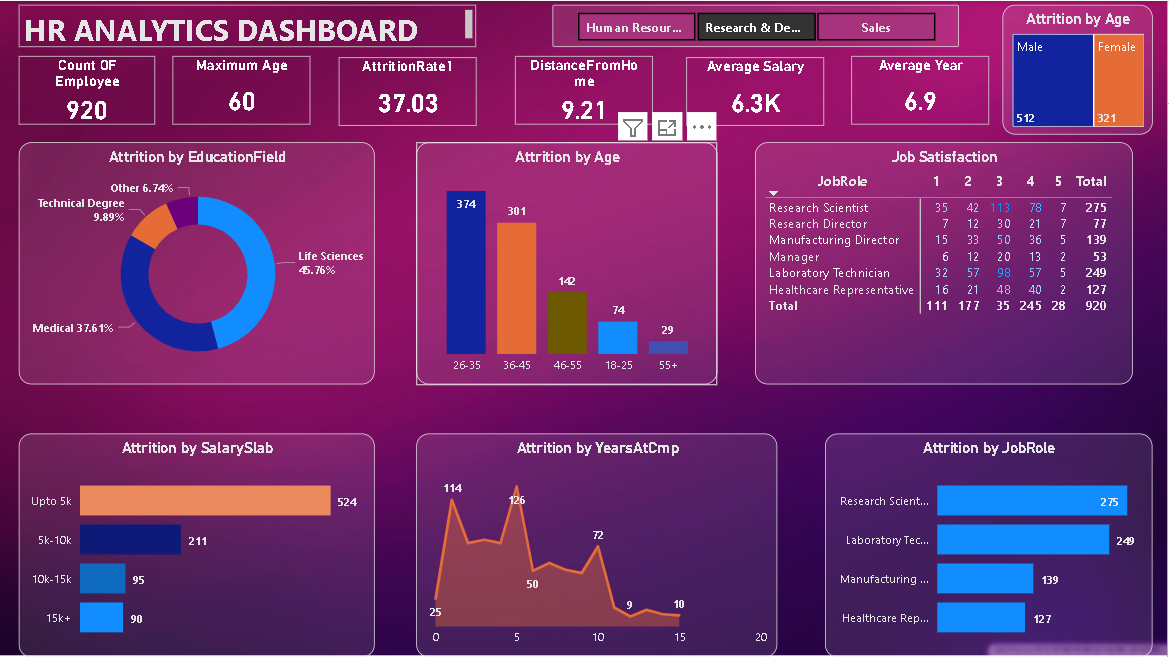

What the dashboard file says about the page in this screenshot:
{"tool":"powerbi","page":{"name":"Page 1","canvas":[1280,720],"ordinal":0},"visuals":[{"type":"card","title":"Count OF Employee","fields":{"Values":["CountNonNull(HR_Analytics.EmpID)"]},"box":[20.6,60.3,149.4,75.4],"z":0},{"type":"card","title":"Maximum Age","fields":{"Values":["Max(HR_Analytics.Age)"]},"box":[189.2,60.3,150.8,75.4],"z":1000},{"type":"card","title":"AttritionRate1","fields":{"Values":["HR_Analytics.AttritionRate1"]},"box":[371.6,61.7,150.8,75.4],"z":2000},{"type":"card","title":"DistanceFromHome","fields":{"Values":["Avg(HR_Analytics.DistanceFromHome)"]},"box":[564.9,60.3,150.8,75.4],"z":3000},{"type":"card","title":"Average Salary","fields":{"Values":["Avg(HR_Analytics.MonthlyIncome)"]},"box":[752.7,61.7,150.8,75.4],"z":4000},{"type":"card","title":"Average Year ","fields":{"Values":["Avg(HR_Analytics.YearsAtCompany)"]},"box":[933.7,60.3,150.8,75.4],"z":5000},{"type":"donutChart","title":"Attrition by EducationField","fields":{"Category":["HR_Analytics.EducationField"],"Y":["CountNonNull(HR_Analytics.Attrition)"]},"box":[20.6,154.9,390.7,266],"z":6000},{"type":"columnChart","title":"Attrition by Age","fields":{"Category":["HR_Analytics.AgeGroup"],"Y":["CountNonNull(HR_Analytics.Attrition)"]},"box":[456.6,154.9,330.4,266],"z":7000},{"type":"pivotTable","title":"Job Satisfaction","fields":{"Columns":["HR_Analytics.Education"],"Rows":["HR_Analytics.JobRole"],"Values":["CountNonNull(HR_Analytics.Attrition)"]},"box":[828.1,154.9,414.1,266],"z":8000},{"type":"barChart","title":"Attrition by SalarySlab","fields":{"Category":["HR_Analytics.SalarySlab"],"Y":["CountNonNull(HR_Analytics.Attrition)"]},"box":[20.6,474.4,390.7,245.4],"z":9000},{"type":"barChart","title":"Attrition by JobRole","fields":{"Category":["HR_Analytics.JobRole"],"Y":["CountNonNull(HR_Analytics.Attrition)"]},"box":[904.9,474.4,359.2,245.4],"z":10000},{"type":"areaChart","title":"Attrition by YearsAtCmp","fields":{"Y":["CountNonNull(HR_Analytics.Attrition)"],"Category":["HR_Analytics.YearsAtCompany"]},"box":[456.6,474.4,396.2,245.4],"z":11000},{"type":"treemap","title":"Attrition by Age","fields":{"Group":["HR_Analytics.Gender"],"Values":["CountNonNull(HR_Analytics.Attrition)"]},"box":[1099.6,4.1,164.5,142.6],"z":12000},{"type":"slicer","fields":{"Values":["HR_Analytics.Department"]},"box":[606,4.1,445.6,46.6],"z":13000},{"type":"textbox","box":[20.6,4.1,501.8,46.6],"z":13001}]}

Visuals, with their boxes in screenshot pixels (x1, y1, x2, y2), scaled from the page's 1280x720 canvas onto the 1169x657 screenshot:
"Count OF Employee" card: BBox(19, 55, 155, 124)
"Maximum Age" card: BBox(173, 55, 311, 124)
"AttritionRate1" card: BBox(339, 56, 477, 125)
"DistanceFromHome" card: BBox(516, 55, 654, 124)
"Average Salary" card: BBox(687, 56, 825, 125)
"Average Year " card: BBox(853, 55, 990, 124)
"Attrition by EducationField" donutChart: BBox(19, 141, 376, 384)
"Attrition by Age" columnChart: BBox(417, 141, 719, 384)
"Job Satisfaction" pivotTable: BBox(756, 141, 1134, 384)
"Attrition by SalarySlab" barChart: BBox(19, 433, 376, 656)
"Attrition by JobRole" barChart: BBox(826, 433, 1154, 656)
"Attrition by YearsAtCmp" areaChart: BBox(417, 433, 779, 656)
"Attrition by Age" treemap: BBox(1004, 4, 1154, 134)
slicer - HR_Analytics.Department: BBox(553, 4, 960, 46)
textbox: BBox(19, 4, 477, 46)
